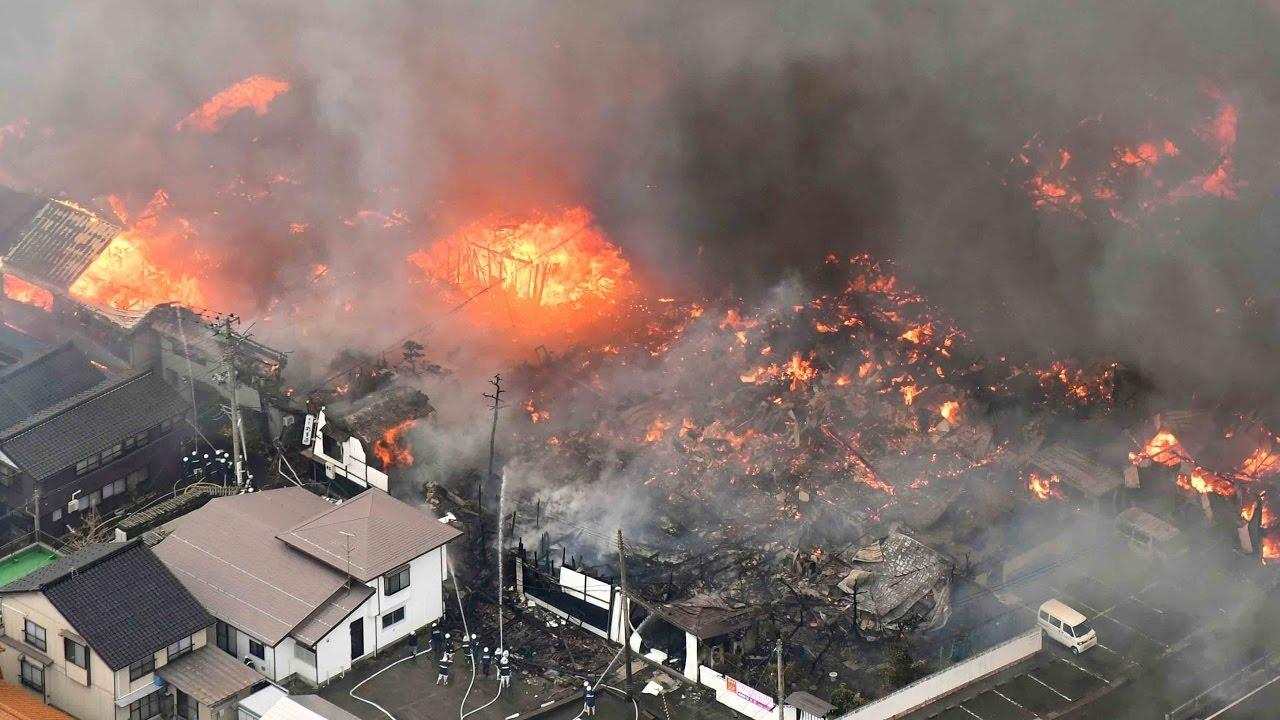Fire: (44, 70, 690, 421), (632, 244, 1096, 534), (1034, 96, 1279, 569)
